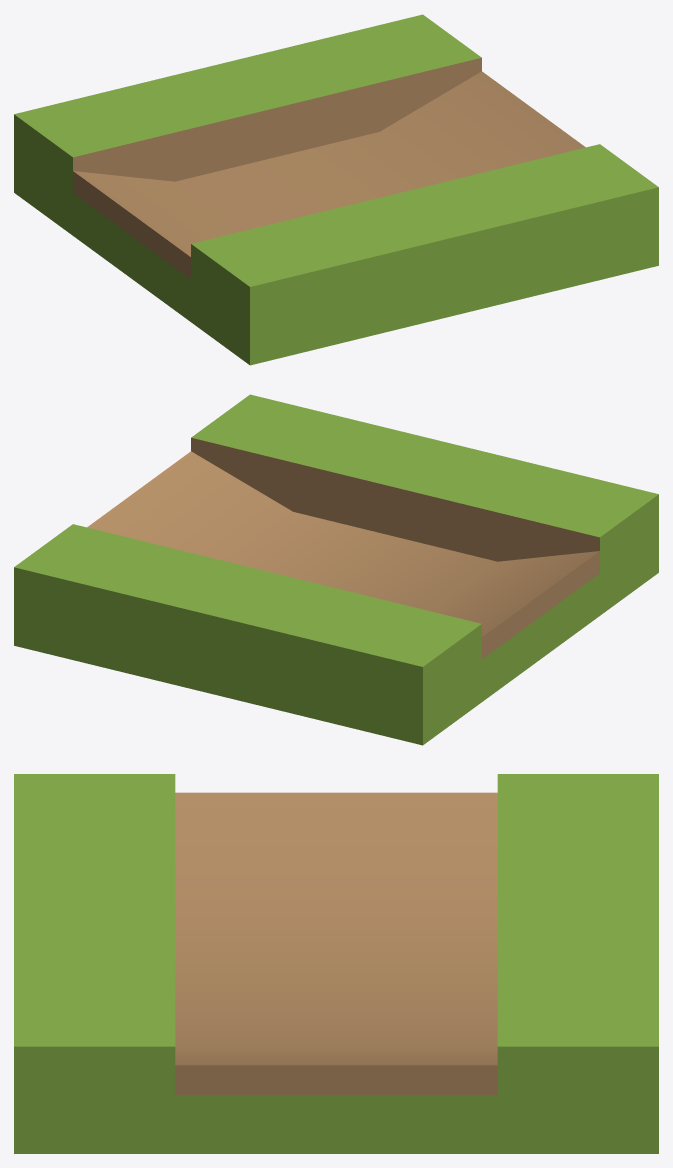
File: tile233.fbx
The picture shows the model from 3 angles, top to bottom: view 1: azimuth 30°, elevation 25°; view 2: azimuth 150°, elevation 25°; view 3: azimuth 270°, elevation 25°; orthographic projection. The views are drawn at different scales.
Visible parts, largest first — view 1: tile233; view 2: tile233; view 3: tile233.
Boxes of the visible parts, x1,y1,x2,y2 form: tile233: (14, 14, 658, 365); tile233: (14, 394, 658, 745); tile233: (14, 774, 658, 1153).
Size of the model in its own units: 10 by 1.83 by 10.
